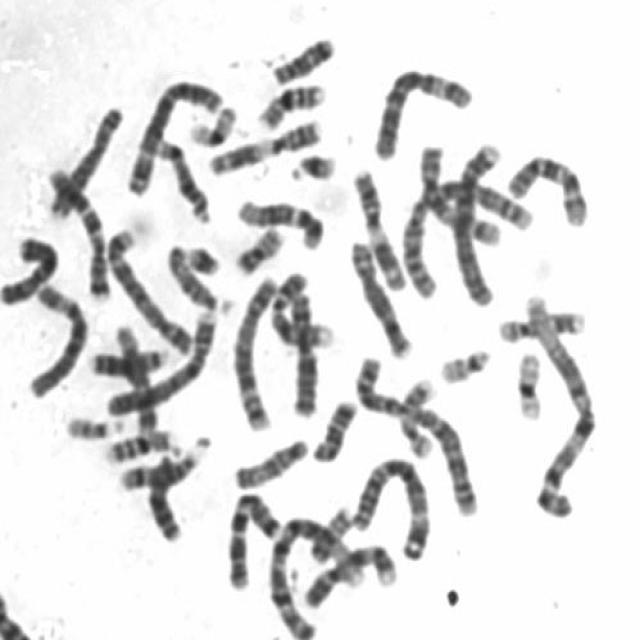A1: (520, 291, 596, 516), (263, 507, 358, 639)
A2: (350, 352, 481, 520), (397, 169, 538, 301)
A3: (122, 76, 224, 198), (350, 452, 431, 562)
B4: (100, 305, 221, 418), (458, 141, 501, 321)
B5: (104, 225, 192, 353), (228, 272, 278, 432)
C10: (416, 143, 504, 243), (502, 148, 588, 229)
C11: (347, 162, 408, 294), (204, 115, 323, 177)
C12: (232, 194, 323, 250), (114, 324, 159, 435)
C6: (368, 64, 475, 161), (24, 278, 90, 400)
C7: (44, 164, 109, 301), (224, 492, 281, 589)
C8: (45, 100, 126, 220), (345, 237, 413, 359)
C9: (300, 538, 399, 610), (265, 268, 335, 349)
D13: (145, 450, 182, 542), (86, 343, 171, 378)
D14: (116, 431, 210, 492), (150, 134, 213, 225)
D15: (163, 240, 233, 315), (230, 435, 310, 492)
E16: (253, 80, 327, 132), (102, 426, 180, 464)
E17: (395, 374, 436, 460), (494, 307, 586, 343)
E18: (268, 34, 335, 86), (308, 396, 358, 464)
F19: (184, 102, 238, 150), (512, 348, 545, 422)
F20: (307, 503, 359, 565), (230, 222, 287, 277)
G21: (284, 148, 338, 184), (182, 241, 222, 277)
G22: (435, 345, 492, 384), (62, 412, 125, 441)
X: (283, 291, 322, 422), (0, 234, 62, 310)
